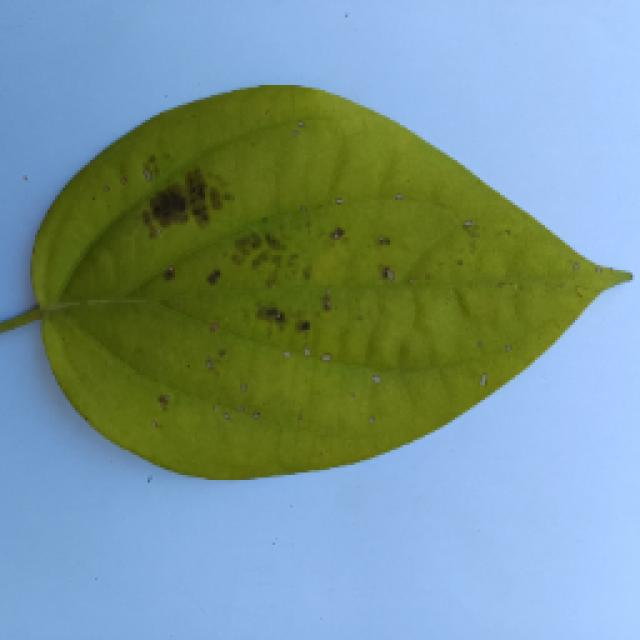slow-decline: (2, 78, 630, 478)
